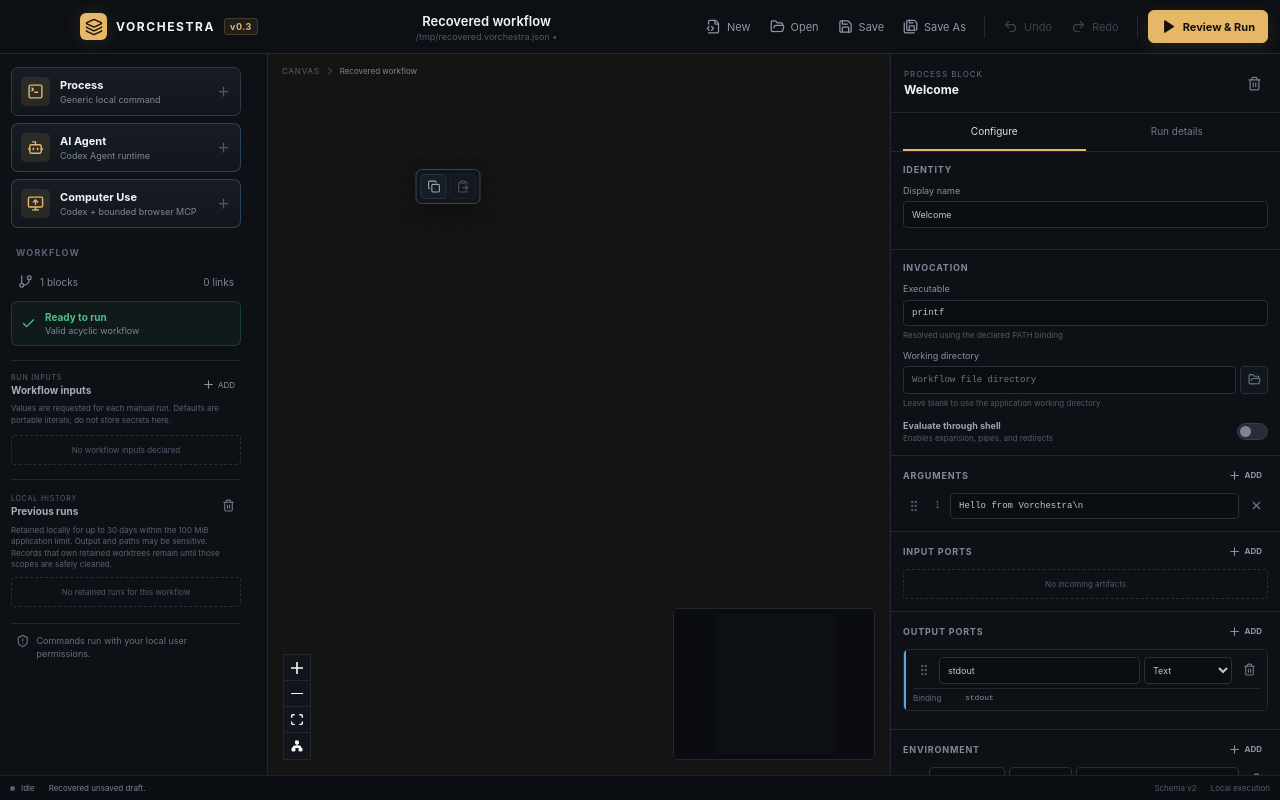
Scenario: block configuration ordering › recovers a valid draft and clears and rebases it after save
This screenshot has width=1280, height=800.
Check: the text "Recovered unsaved draft." is shown, box [49,783,146,793]
Replace the text in the field named "Workflow name" with "Saved recovery" at x=486, y=21, box [287,11,686,31]
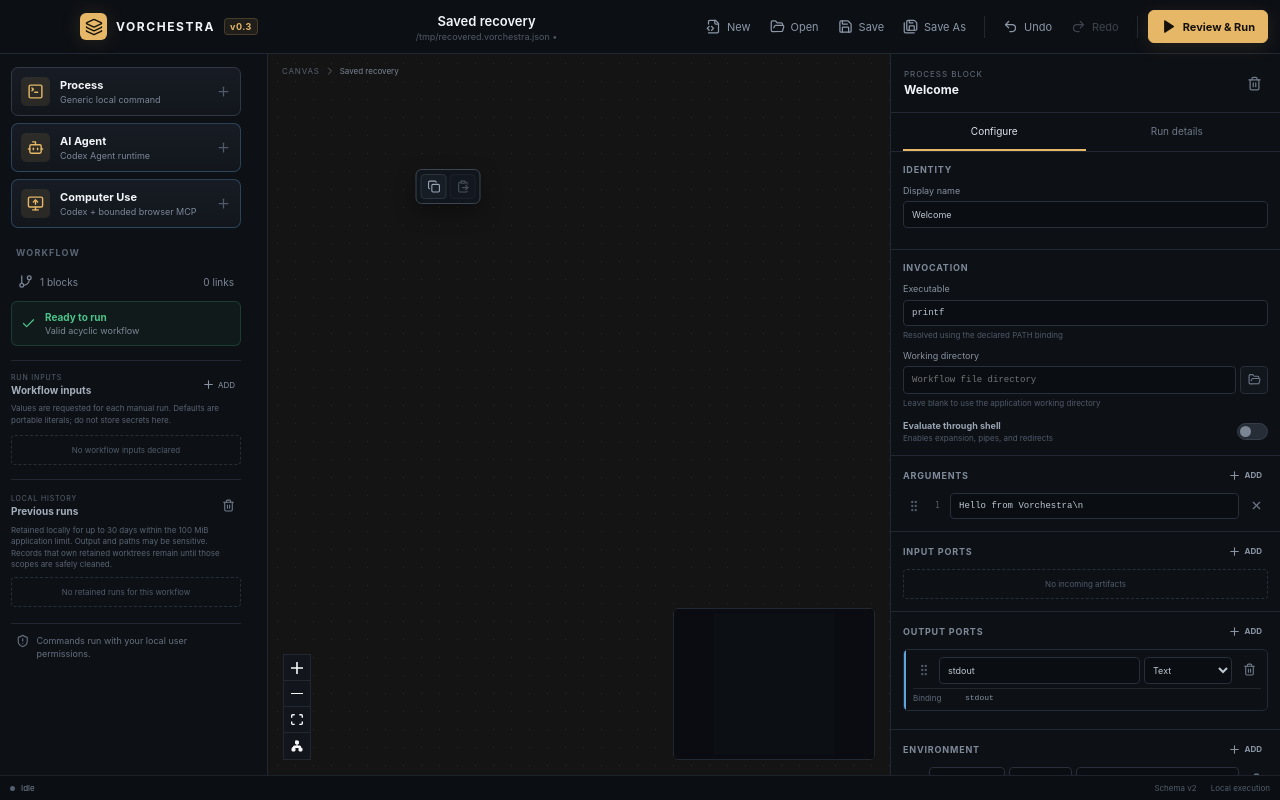
Check: the button labelled "Undo" is enabled, box [995,12,1060,41]
Click the button labelled "Save" at x=861, y=26, box [830,12,892,41]
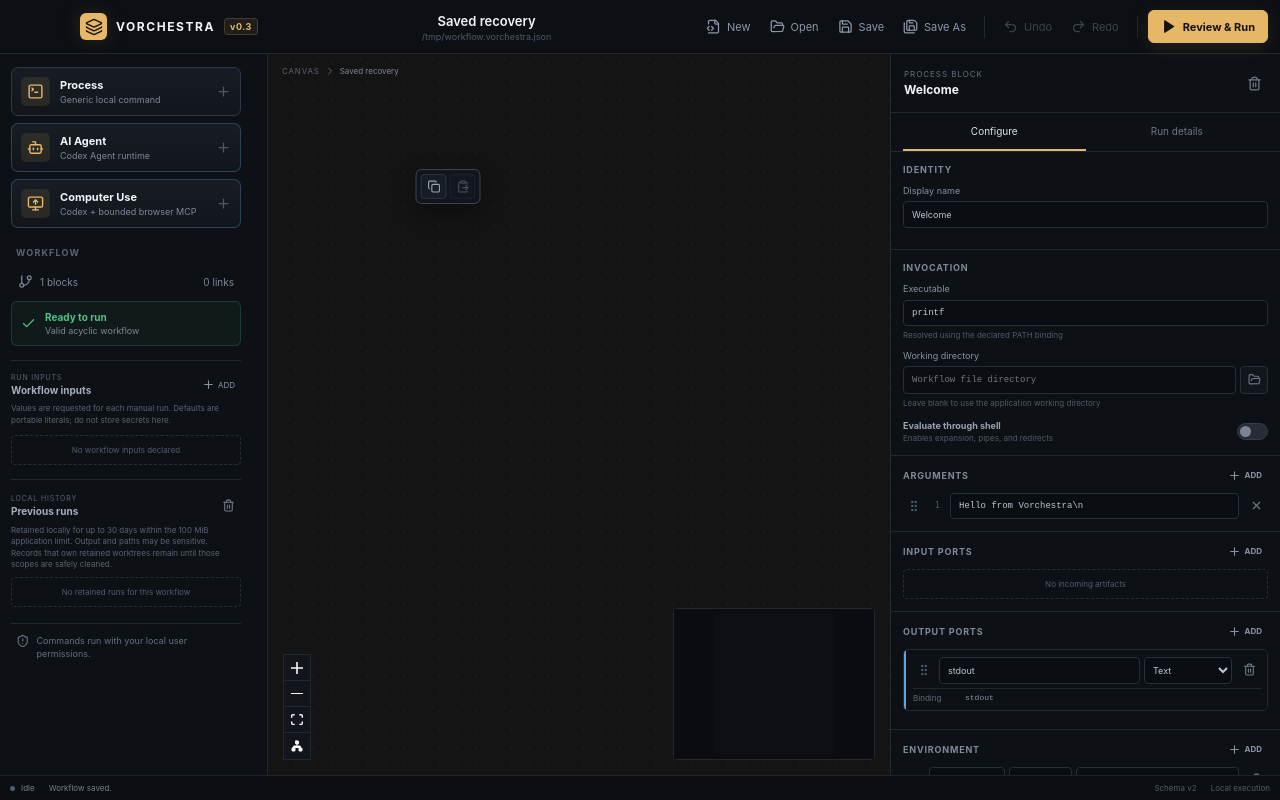
Check: the button labelled "Undo" is disabled, box [995,12,1060,41]
